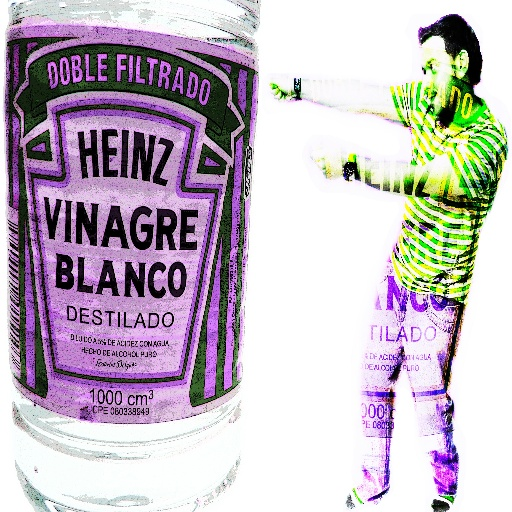hand: (309, 149, 344, 179), (268, 75, 294, 101)
